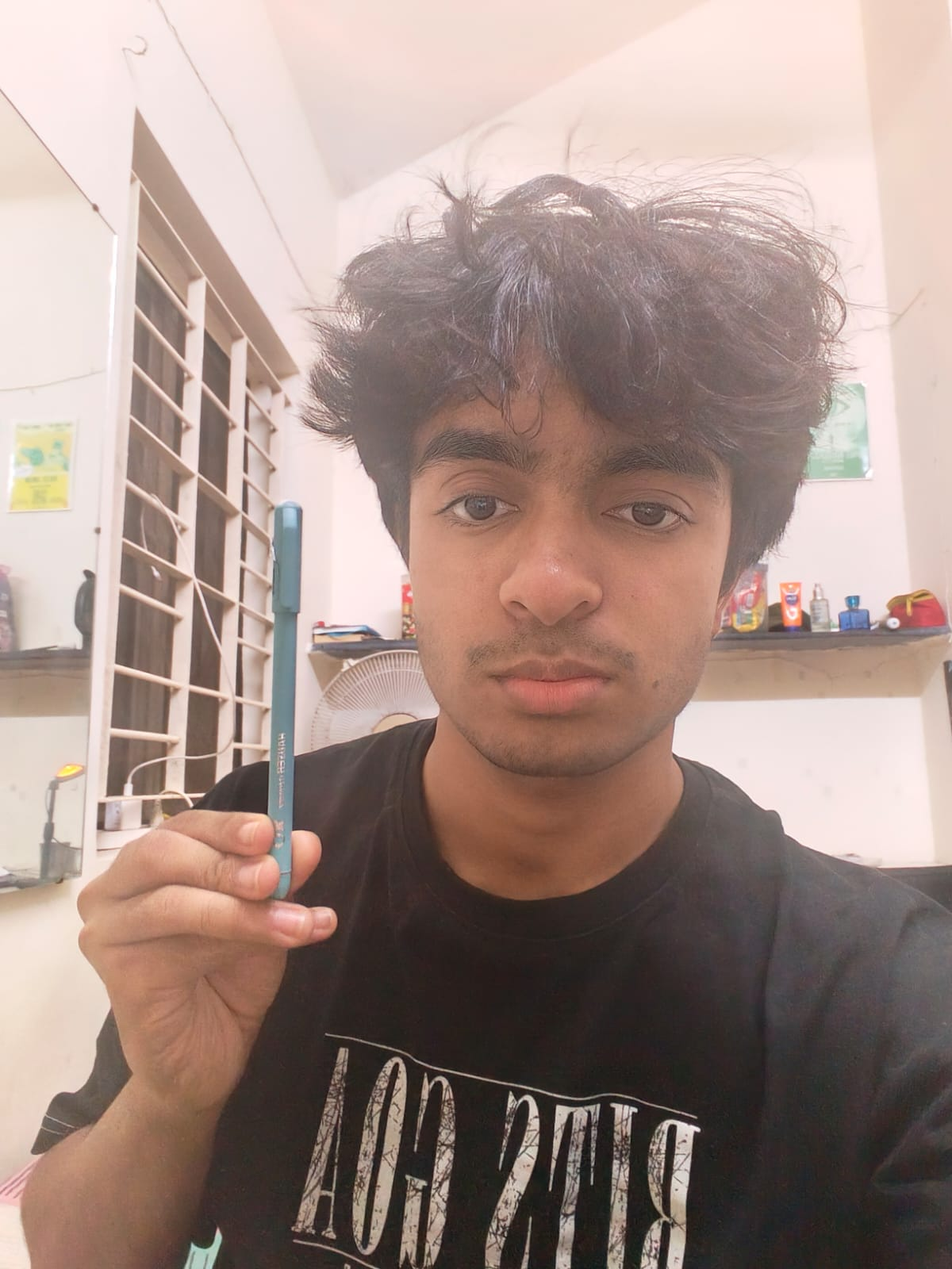pen: (251, 492, 329, 907)
